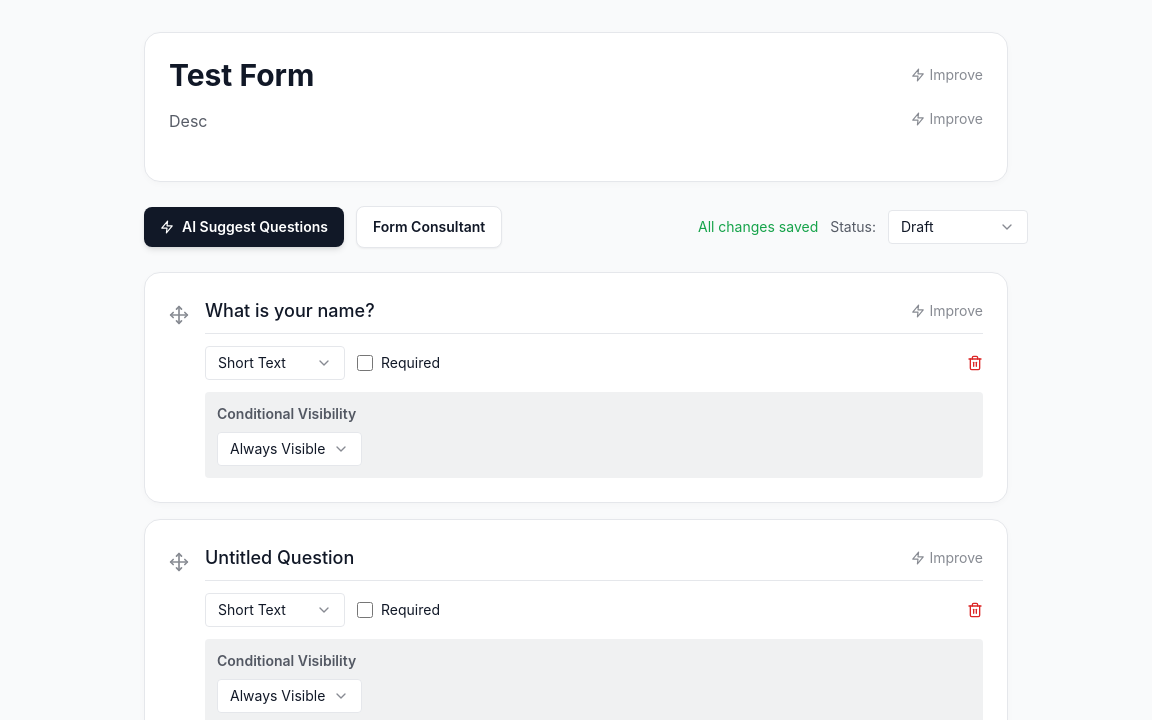
FormBuilder Phase 6 AI Features › handles question writing improvement and cancel
Step 1. Click the 3rd button titled "Improve question wording with AI" → (947, 311), box [912,301,983,321]
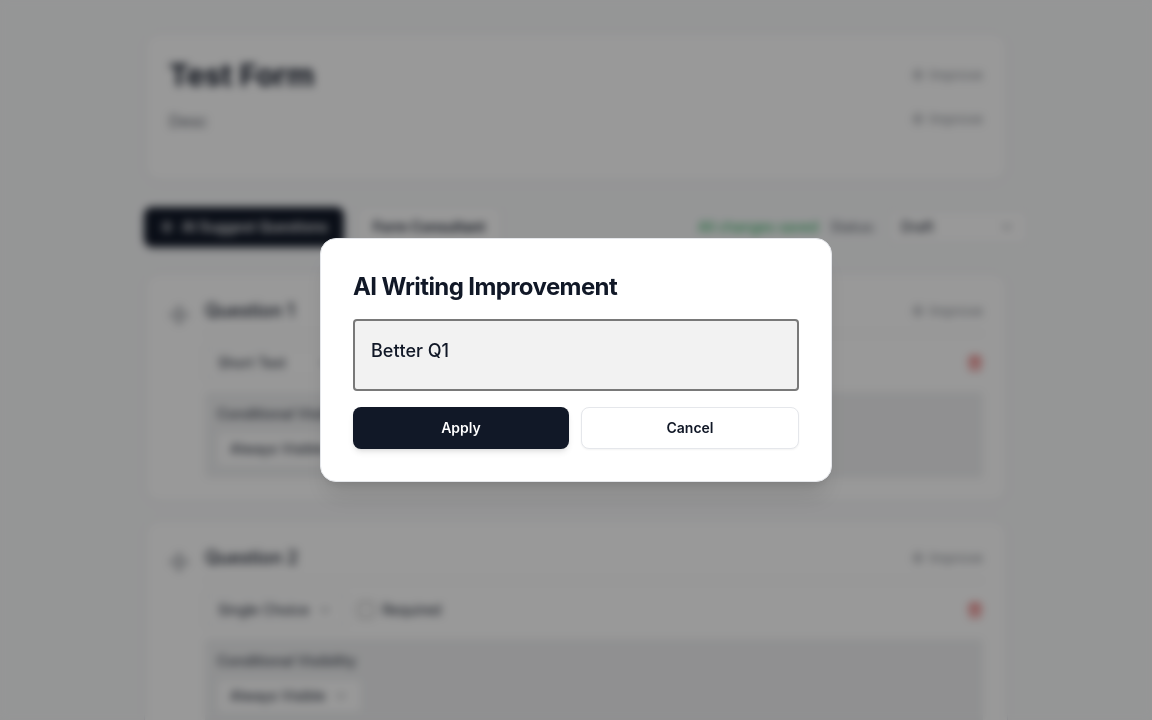
Expected: the text "Better Q1" is shown, [371,340,449,361]
Step 2. Click the button "Cancel" → (690, 428), box [581,407,799,449]
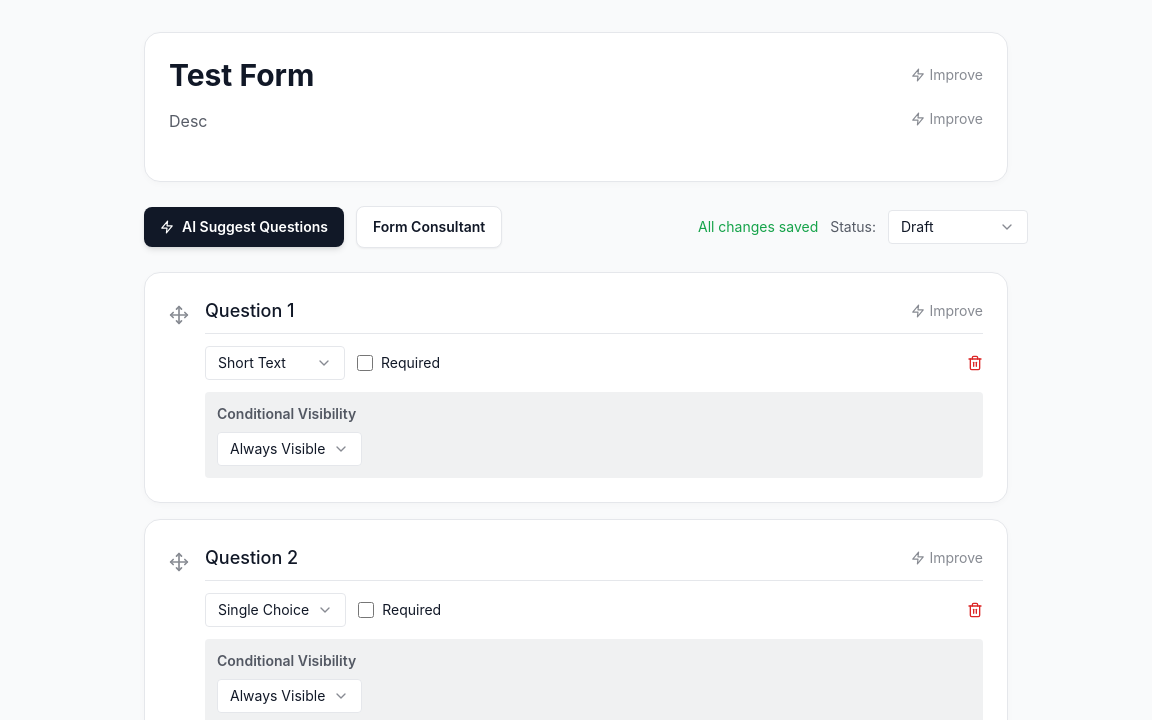
Expected: the heading "AI Writing Improvement" is gone
